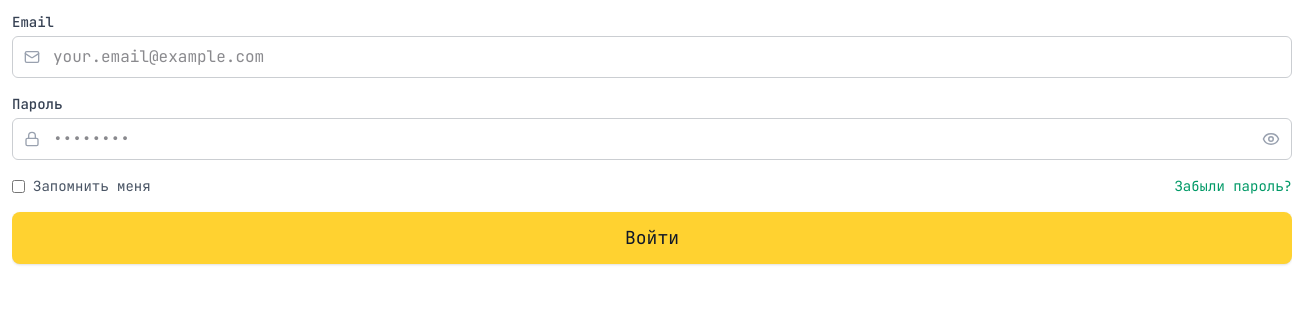
LoginForm › валидирует формат email
Type "invalid-email" into the field labelled "Email" at {"x": 652, "y": 57}, box [12,36,1292,78]
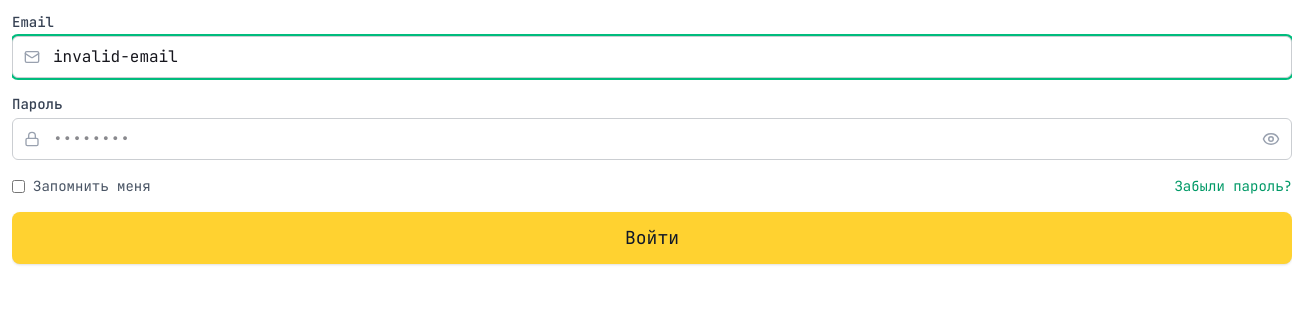
Click the button "Войти" at {"x": 652, "y": 238}, box [12,212,1292,264]
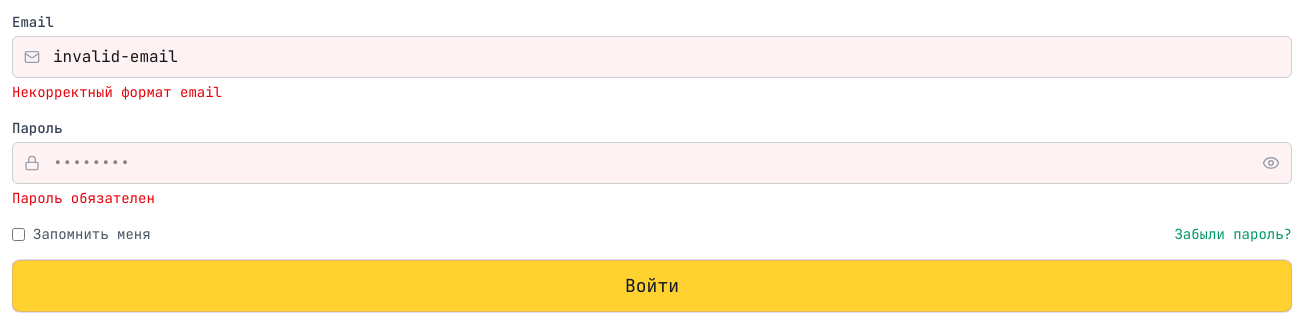
Expected: the text "Некорректный формат email" is shown, [12,83,222,101]
